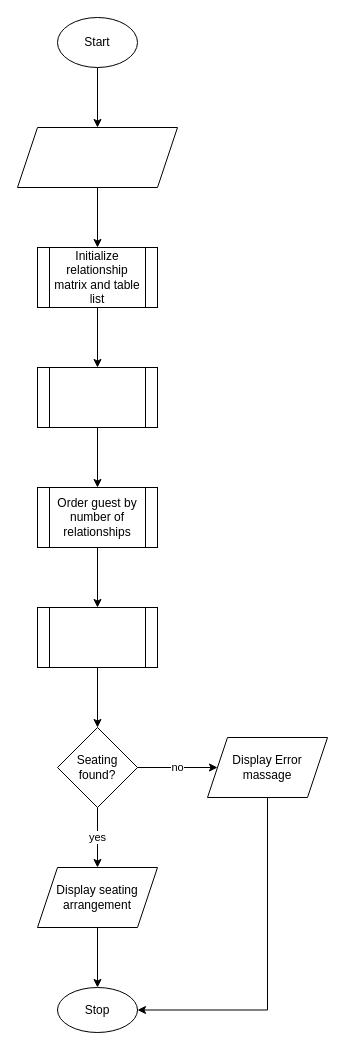
Image size: 345x1050. Some labels were removed from this diagram. The centre of each missing label's shape, as x and y in pixels:
"Add friends and enemies" belongs at [97,397].
"Assign seating recursively under the seating conditions" belongs at [97,637].
"Read input data(number of tables, seats per table, txt-file)" belongs at [97,157].
